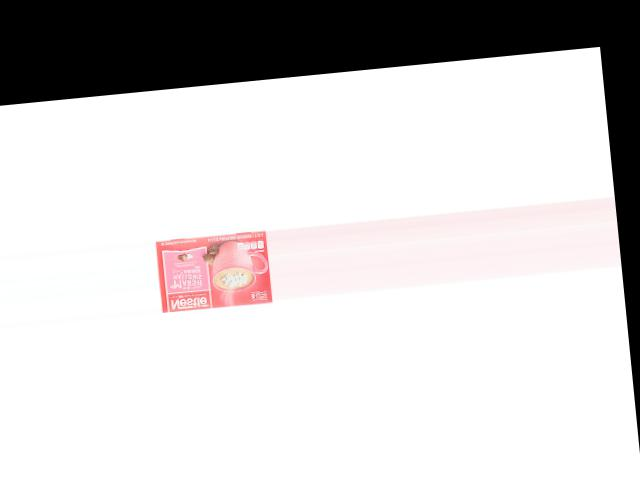chocolate: (157, 226, 273, 310)
